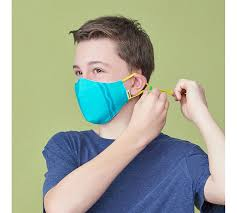FaceMask: (74, 78, 130, 124)
